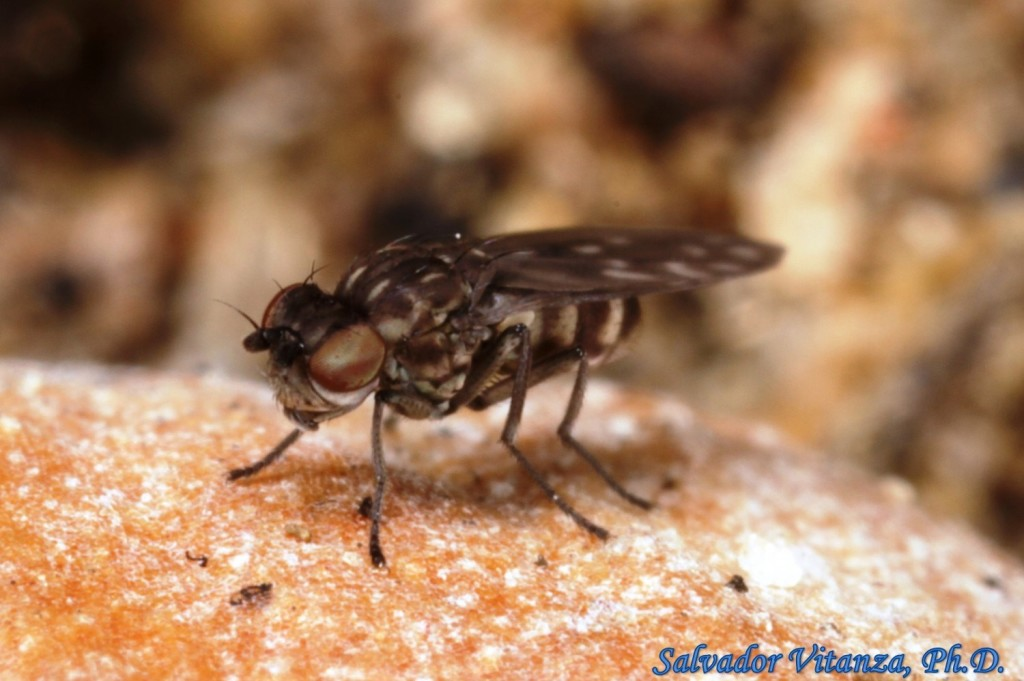Ephydridae: (215, 223, 793, 563)
